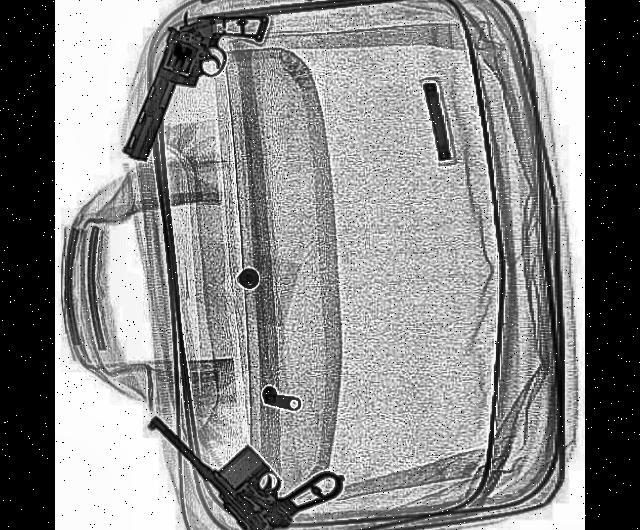Gun: (148, 326, 349, 530), (119, 0, 273, 202)
